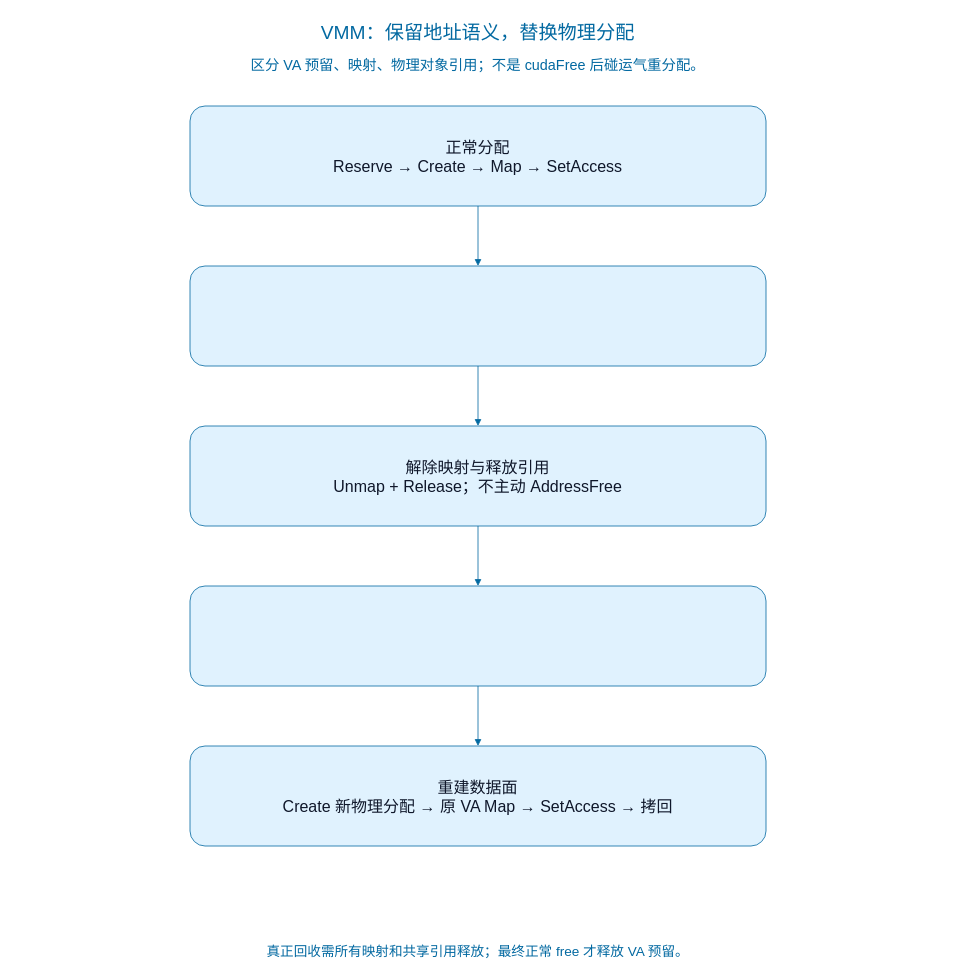
The diagram is 955 pixels wide and 979 high, and some of its shapes have lost their labels. The centre of each missing label's shape, as x and y in pixels:
Checkpoint：先完成数据保存 GPU → staging → Host 快照: point 477,315
驱动 checkpoint / restore 保存并恢复 CUDA 控制状态与地址语义: point 477,635
